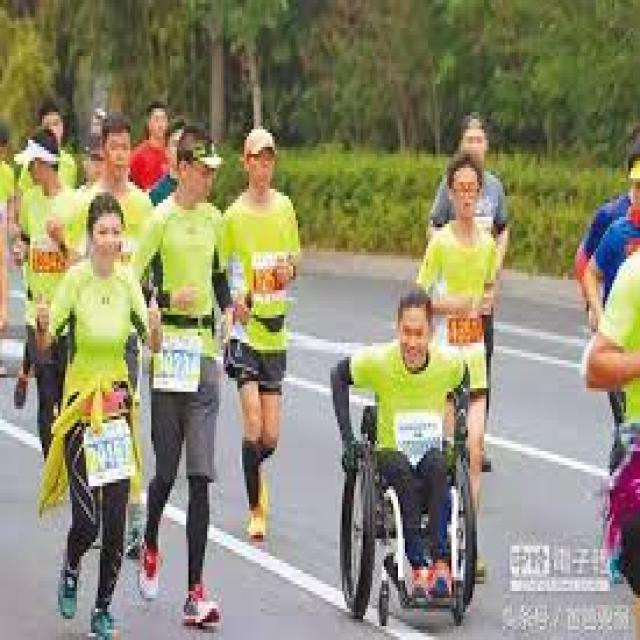wheelchairs: (319, 398, 503, 616)
